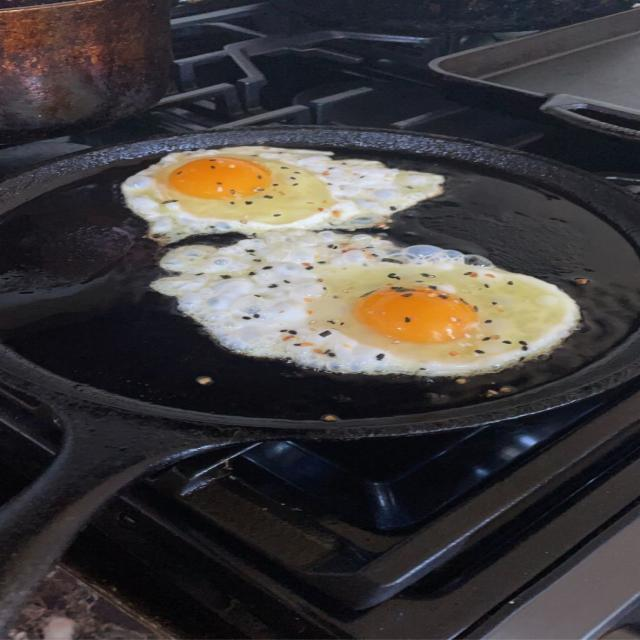fryed egg: (153, 231, 579, 376), (122, 147, 443, 243)
